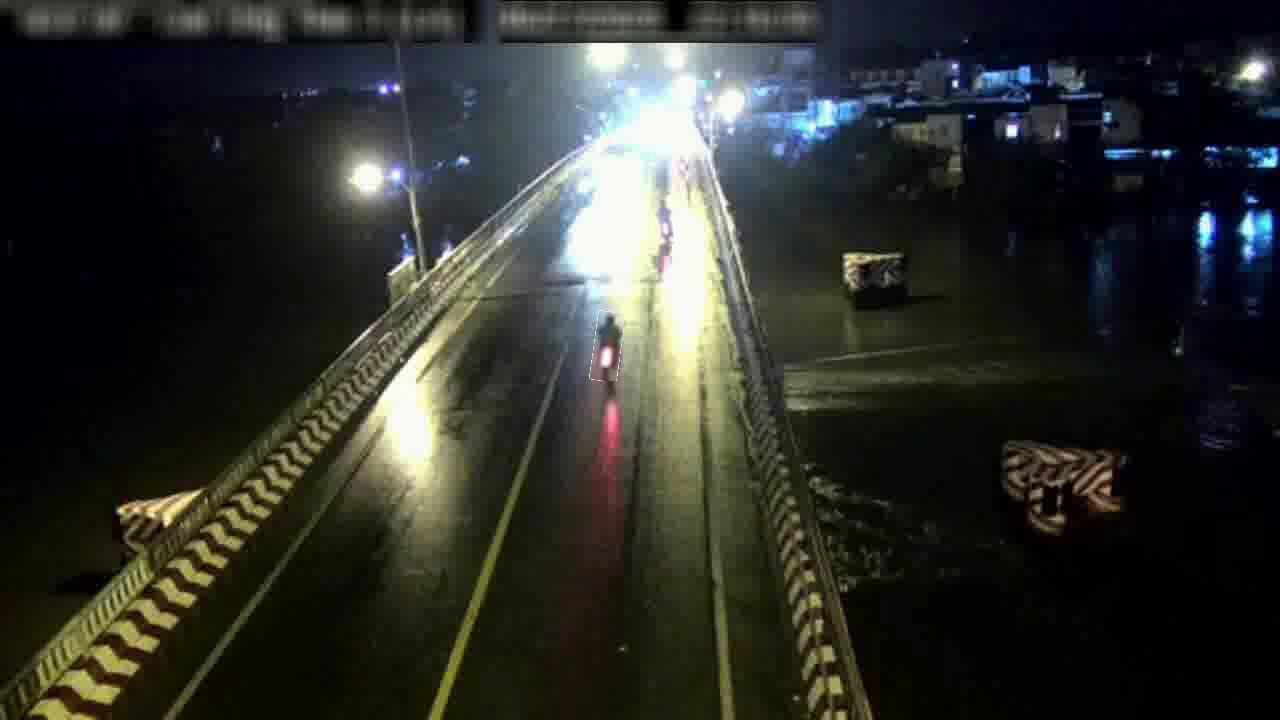motorbike: (592, 311, 623, 382), (650, 196, 674, 245), (651, 155, 668, 200)
